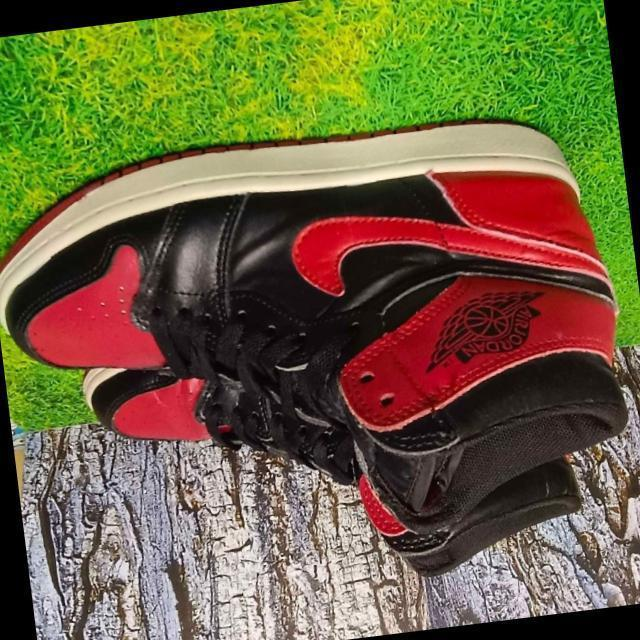nike fake jordan 1: (0, 93, 640, 576), (79, 309, 591, 616)
